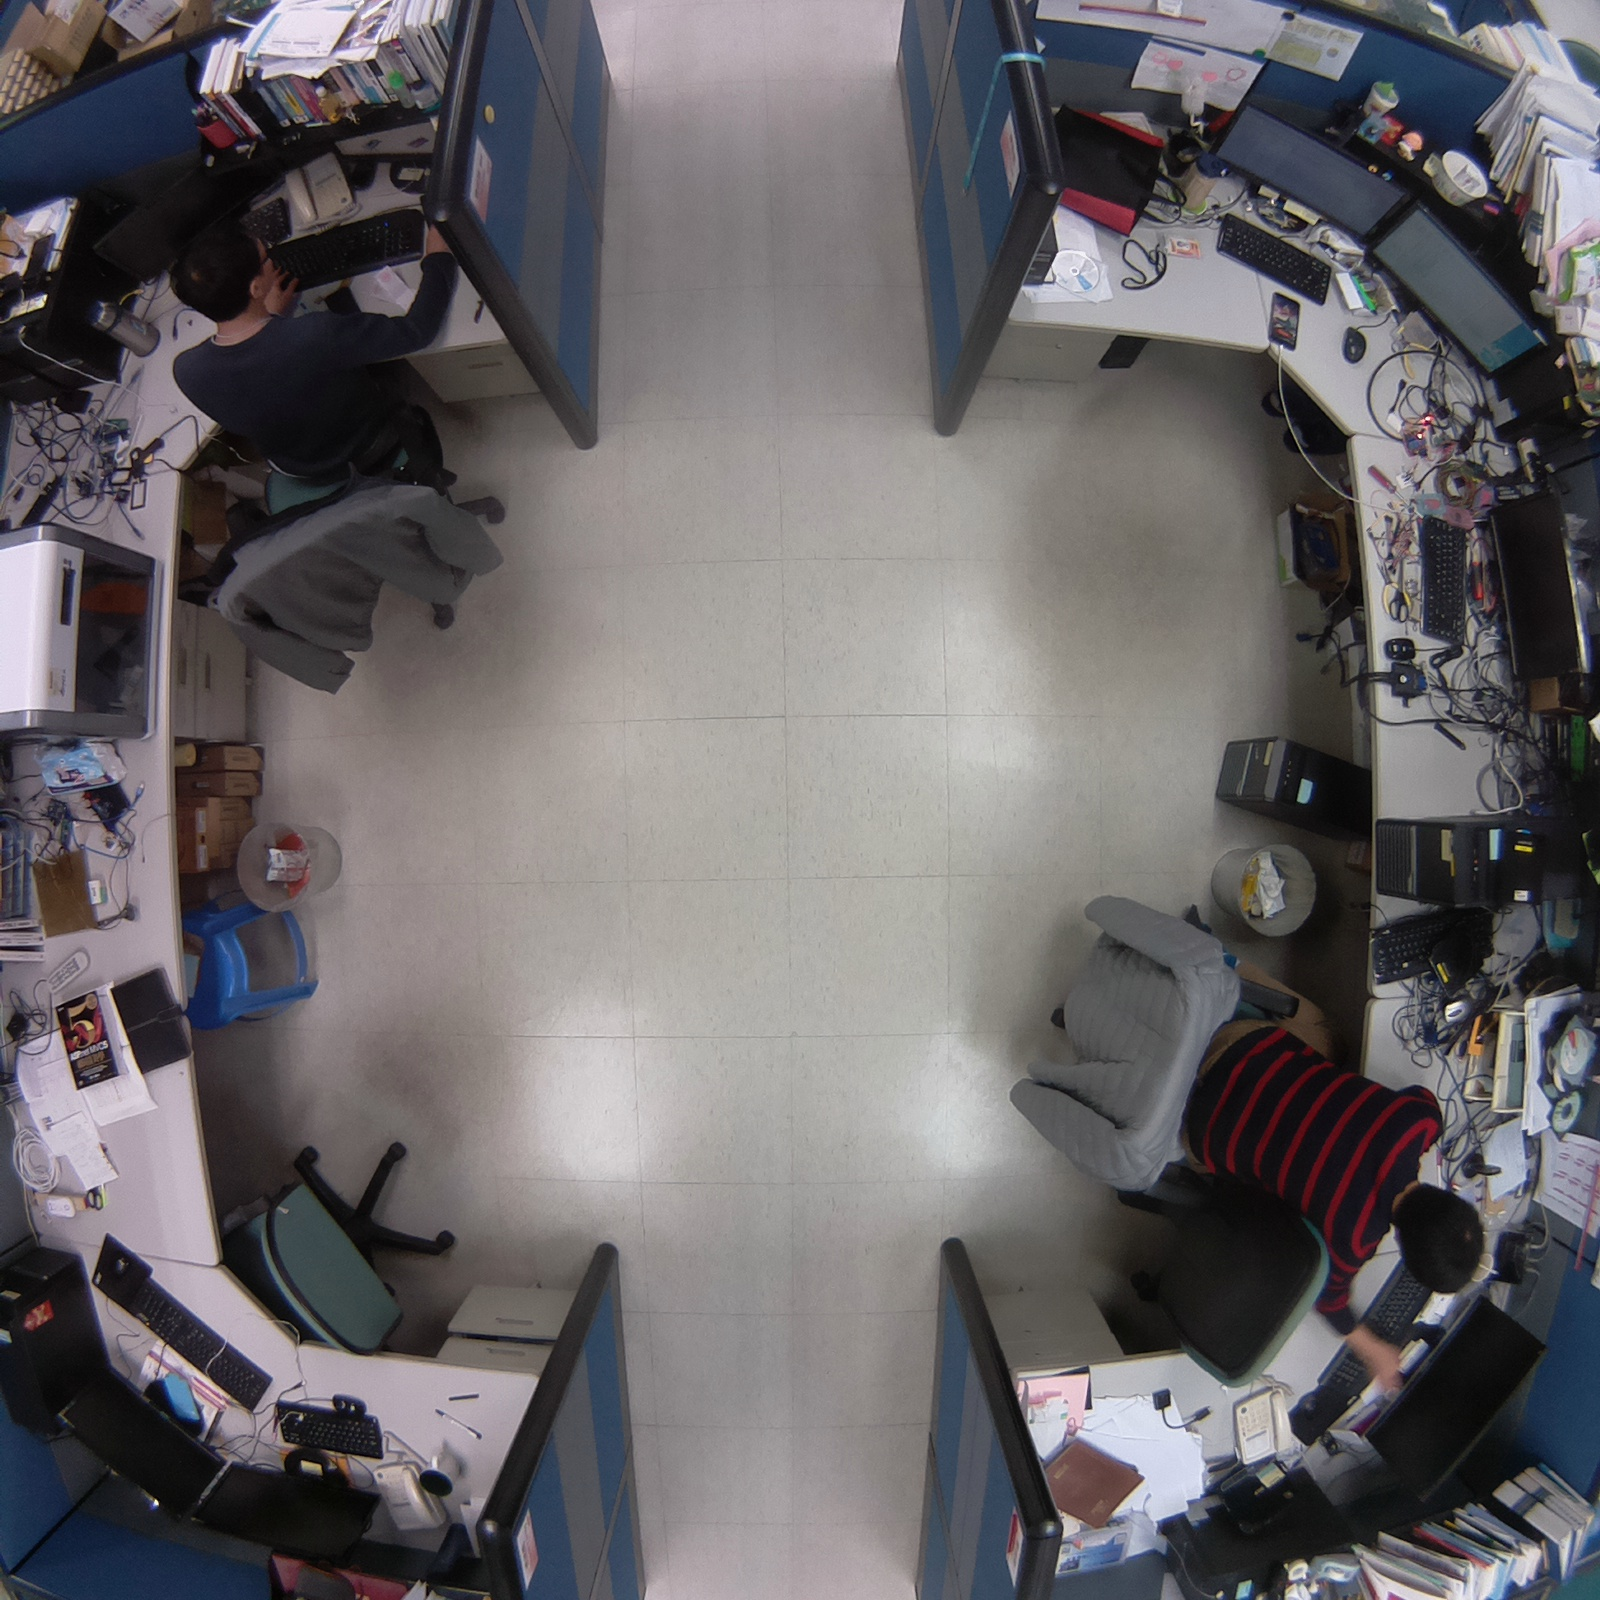chair: (219, 1127, 494, 1368), (1101, 1178, 1335, 1404)
head: (1378, 1172, 1495, 1300), (151, 214, 289, 321)
sitting: (999, 878, 1495, 1320), (162, 223, 529, 709)
